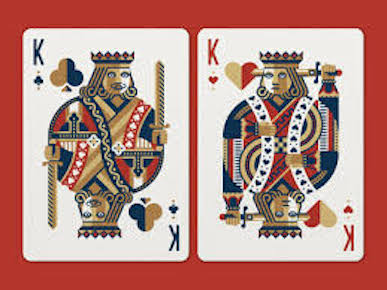KingOfClubs: (15, 21, 194, 266)
KingOfHearts: (193, 22, 372, 271)
